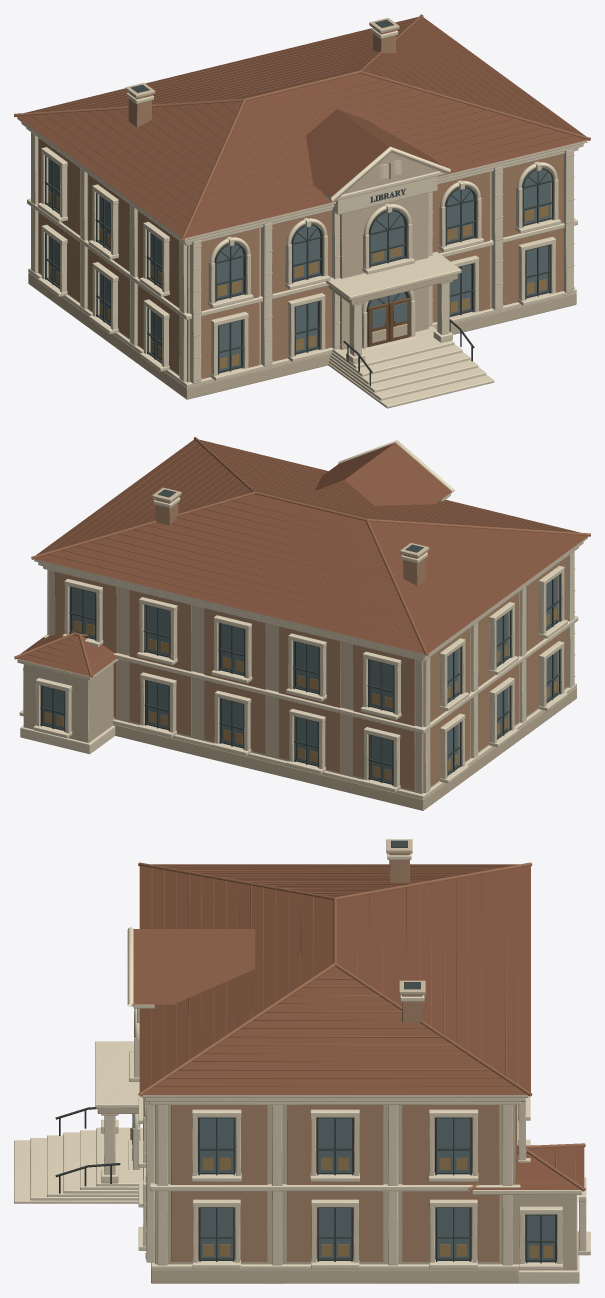
Rendered from SM_Library_Blockout.fbx.
The picture shows the model from 3 angles, top to bottom: view 1: azimuth 30°, elevation 25°; view 2: azimuth 150°, elevation 25°; view 3: azimuth 270°, elevation 25°; orthographic projection. The views are drawn at different scales.
Visible parts, largest first — view 1: EXPORT_Main_Hipped_Roof, EXPORT_Foundation, EXPORT_Central_Gable_Roof, EXPORT_Central_Risalit, EXPORT_Front_Brick_Bay.004, EXPORT_Front_Brick_Bay.001, EXPORT_Front_Brick_Bay, EXPORT_Portico_Cornice, EXPORT_Side_Brick_Field.002, EXPORT_Front_Brick_Bay.003, EXPORT_Side_Brick_Field.001, EXPORT_Side_Brick_Field (+53 smaller); view 2: EXPORT_Main_Hipped_Roof, EXPORT_Main_Warm_Render, EXPORT_Foundation, EXPORT_Central_Gable_Roof, EXPORT_Rear_Brick_Field.003, EXPORT_Rear_Brick_Field.002, EXPORT_Rear_Brick_Field, EXPORT_Service_Wing, EXPORT_Rear_Brick_Field.001, EXPORT_Continuous_Cornice.001, EXPORT_Side_Brick_Field, EXPORT_Side_Brick_Field.002 (+38 smaller); view 3: EXPORT_Main_Hipped_Roof, EXPORT_Side_Brick_Field.005, EXPORT_Side_Brick_Field.003, EXPORT_Side_Brick_Field.004, EXPORT_Central_Gable_Roof, EXPORT_Main_Warm_Render, EXPORT_Foundation, EXPORT_Service_Hip, EXPORT_Portico_Cornice, EXPORT_Service_Wing, EXPORT_Continuous_Cornice.001, EXPORT_Continuous_Cornice (+37 smaller).
Part boxes in pixels (x1=…): EXPORT_Main_Hipped_Roof: x1=16, y1=17, x2=587, y2=238; EXPORT_Foundation: x1=28, y1=272, x2=576, y2=399; EXPORT_Central_Gable_Roof: x1=306, y1=109, x2=442, y2=197; EXPORT_Central_Risalit: x1=339, y1=193, x2=428, y2=349; EXPORT_Front_Brick_Bay.004: x1=503, y1=154, x2=563, y2=305; EXPORT_Front_Brick_Bay.001: x1=272, y1=210, x2=331, y2=361; EXPORT_Front_Brick_Bay: x1=201, y1=228, x2=259, y2=378; EXPORT_Portico_Cornice: x1=326, y1=251, x2=461, y2=299; EXPORT_Side_Brick_Field.002: x1=38, y1=138, x2=80, y2=301; EXPORT_Front_Brick_Bay.003: x1=432, y1=172, x2=489, y2=322; EXPORT_Side_Brick_Field.001: x1=88, y1=174, x2=129, y2=338; EXPORT_Side_Brick_Field: x1=138, y1=211, x2=179, y2=374; EXPORT_Main_Hipped_Roof: x1=34, y1=439, x2=588, y2=654; EXPORT_Main_Warm_Render: x1=49, y1=570, x2=567, y2=793; EXPORT_Foundation: x1=113, y1=687, x2=576, y2=810; EXPORT_Central_Gable_Roof: x1=315, y1=442, x2=451, y2=505; EXPORT_Rear_Brick_Field.003: x1=129, y1=590, x2=191, y2=735; EXPORT_Rear_Brick_Field.002: x1=204, y1=608, x2=266, y2=754; EXPORT_Rear_Brick_Field: x1=353, y1=644, x2=415, y2=790; EXPORT_Service_Wing: x1=23, y1=664, x2=114, y2=742; EXPORT_Rear_Brick_Field.001: x1=279, y1=626, x2=340, y2=772; EXPORT_Continuous_Cornice.001: x1=43, y1=616, x2=578, y2=733; EXPORT_Side_Brick_Field: x1=526, y1=557, x2=567, y2=715; EXPORT_Side_Brick_Field.002: x1=430, y1=628, x2=470, y2=786; EXPORT_Main_Hipped_Roof: x1=139, y1=864, x2=530, y2=1094; EXPORT_Side_Brick_Field.005: x1=402, y1=1105, x2=499, y2=1261; EXPORT_Side_Brick_Field.003: x1=171, y1=1105, x2=267, y2=1261; EXPORT_Side_Brick_Field.004: x1=287, y1=1105, x2=383, y2=1261; EXPORT_Central_Gable_Roof: x1=132, y1=929, x2=255, y2=1004; EXPORT_Main_Warm_Render: x1=155, y1=1105, x2=515, y2=1264; EXPORT_Foundation: x1=151, y1=1270, x2=519, y2=1283; EXPORT_Service_Hip: x1=469, y1=1145, x2=584, y2=1189; EXPORT_Portico_Cornice: x1=95, y1=1041, x2=141, y2=1108; EXPORT_Service_Wing: x1=478, y1=1195, x2=577, y2=1270; EXPORT_Continuous_Cornice.001: x1=149, y1=1105, x2=520, y2=1191; EXPORT_Continuous_Cornice: x1=151, y1=1262, x2=519, y2=1270.
Bounding box in the file's own units: 2131 × 2241 × 1086.
